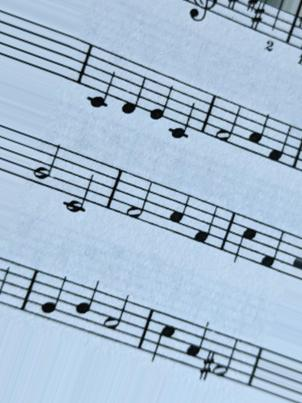note: (86, 35, 116, 112), (167, 70, 197, 143), (40, 266, 70, 332), (149, 300, 177, 369), (74, 276, 103, 342), (192, 190, 220, 254), (185, 315, 212, 379), (259, 216, 286, 280), (122, 52, 146, 120), (246, 104, 271, 166), (232, 209, 257, 270), (268, 111, 292, 174), (149, 63, 173, 125), (167, 182, 190, 245)
